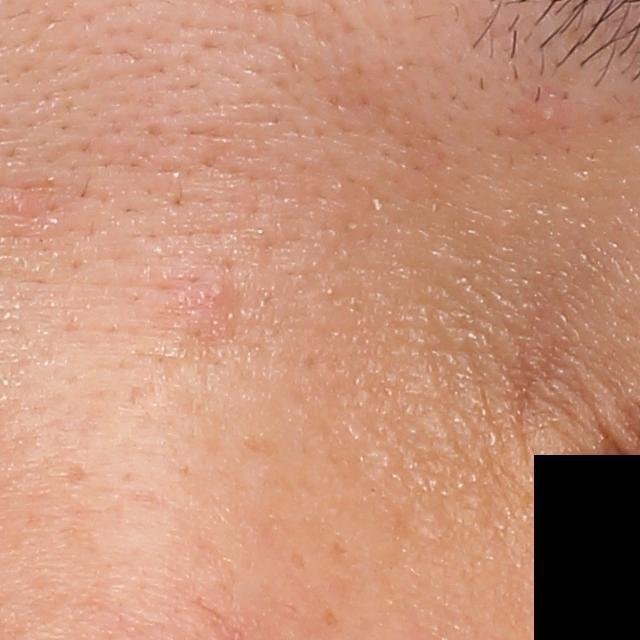melasma: (319, 607, 344, 633)
pustule: (534, 105, 561, 127)
